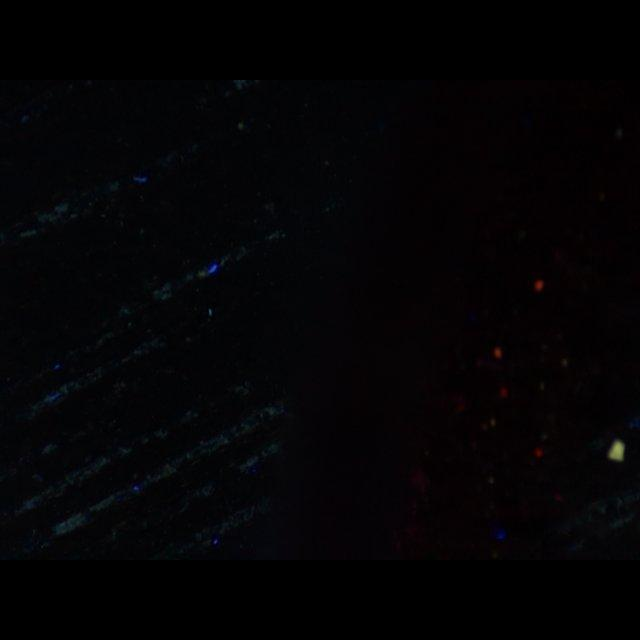microbeads: (608, 440, 626, 464)
